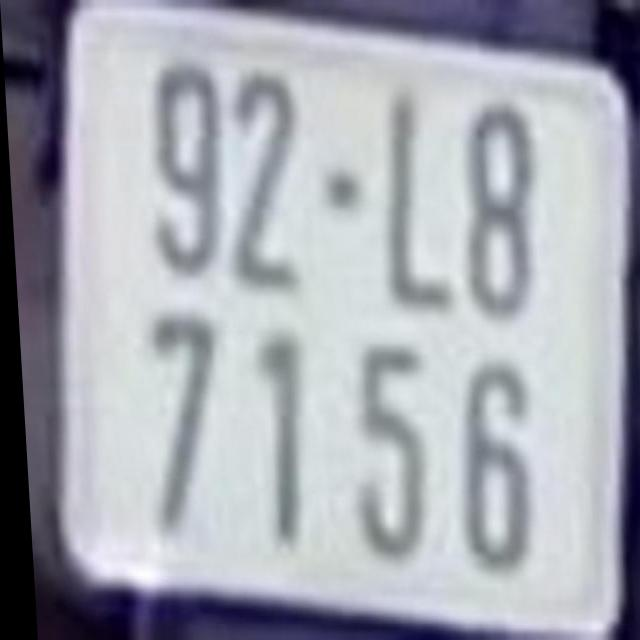1: (248, 331, 307, 551)
2: (225, 69, 299, 294)
5: (345, 337, 429, 561)
6: (449, 360, 536, 575)
7: (141, 316, 221, 532)
8: (465, 98, 533, 309)
9: (143, 56, 219, 270)
L: (375, 92, 456, 308)
